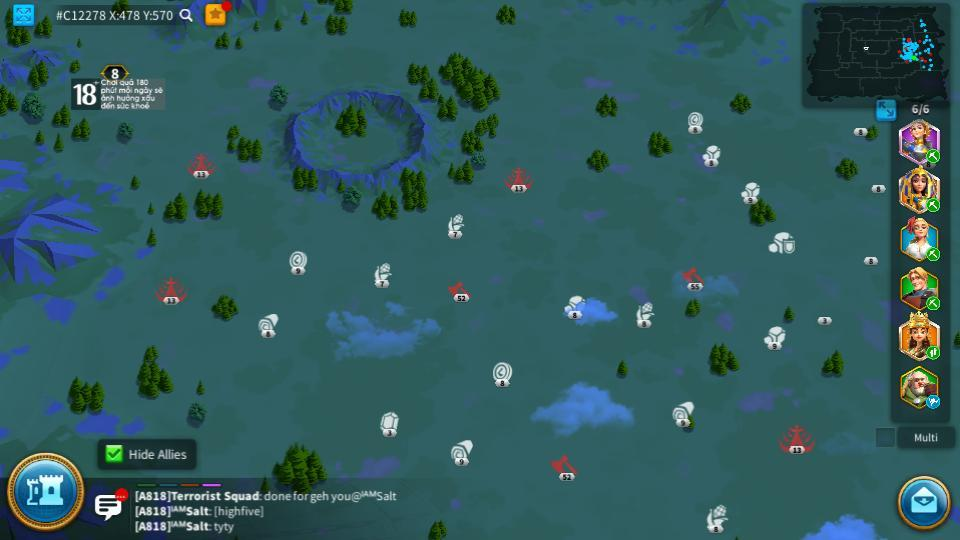gem-z-out: (378, 411, 400, 437), (863, 254, 877, 264)
march_idle: (925, 396, 942, 408)
march_marching: (925, 197, 941, 212), (925, 347, 941, 359), (925, 149, 941, 161), (925, 297, 941, 308), (925, 250, 941, 261)
